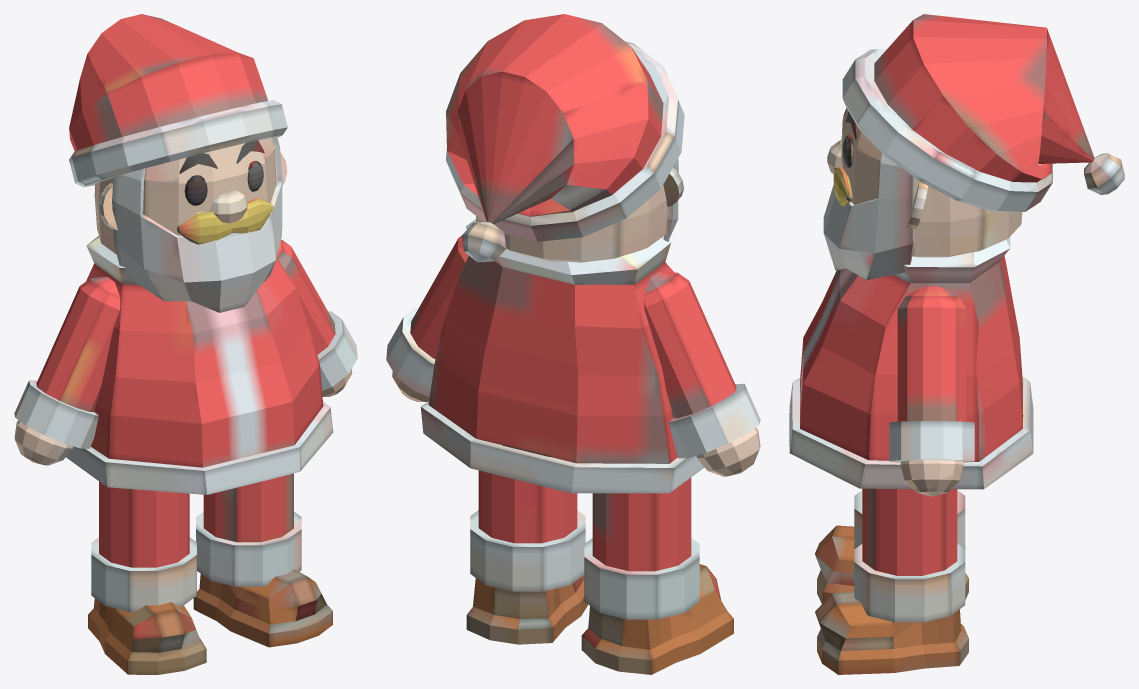
The model's file is n-santa.glb.
3 renders of one model, left to right at view 1: azimuth 30°, elevation 25°; view 2: azimuth 150°, elevation 25°; view 3: azimuth 270°, elevation 25°, orthographic. The views are drawn at different scales.
Parts seen in each view (by area): view 1: default; view 2: default; view 3: default.
Boxes of the visible parts, box(x1,y1,x2,y2) form: default: box(14, 14, 357, 674); default: box(386, 14, 760, 674); default: box(789, 14, 1124, 674).
Size of the model in its own units: 1.59 by 2.58 by 1.32.
Materials: 1 (1 with a texture image).
